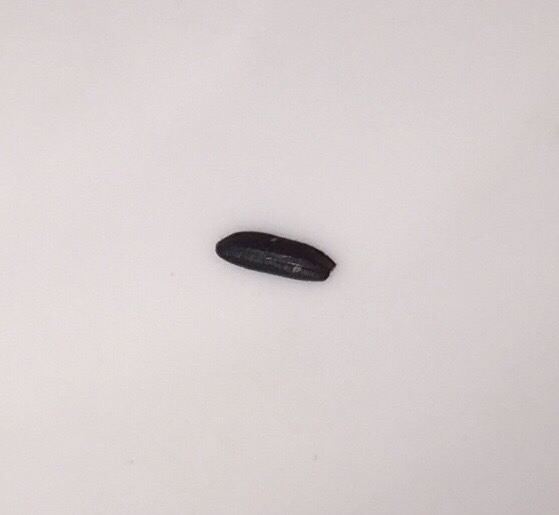Gao Nep Cam: (212, 223, 340, 295)
